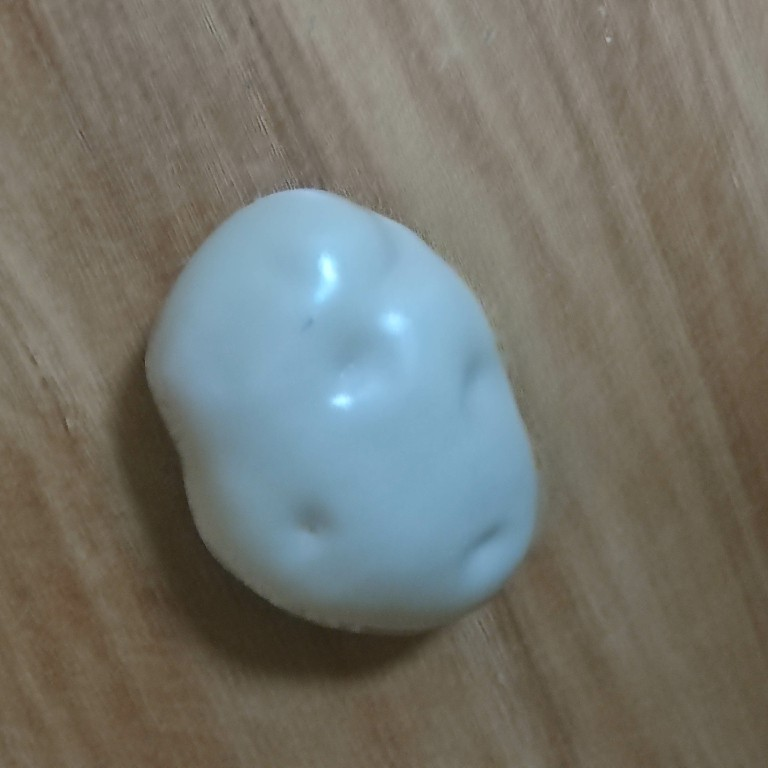fruit_potato: (138, 185, 543, 636)
